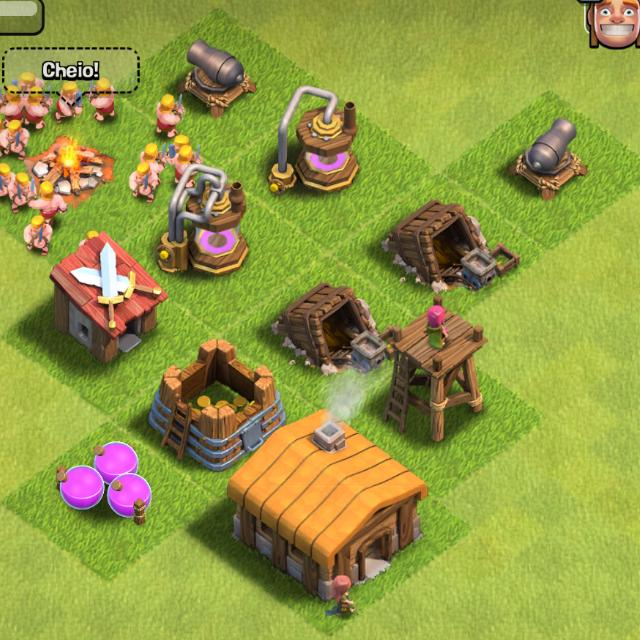Arqueira: (389, 299, 486, 437)
Canhao: (180, 36, 258, 116), (511, 117, 587, 199)
